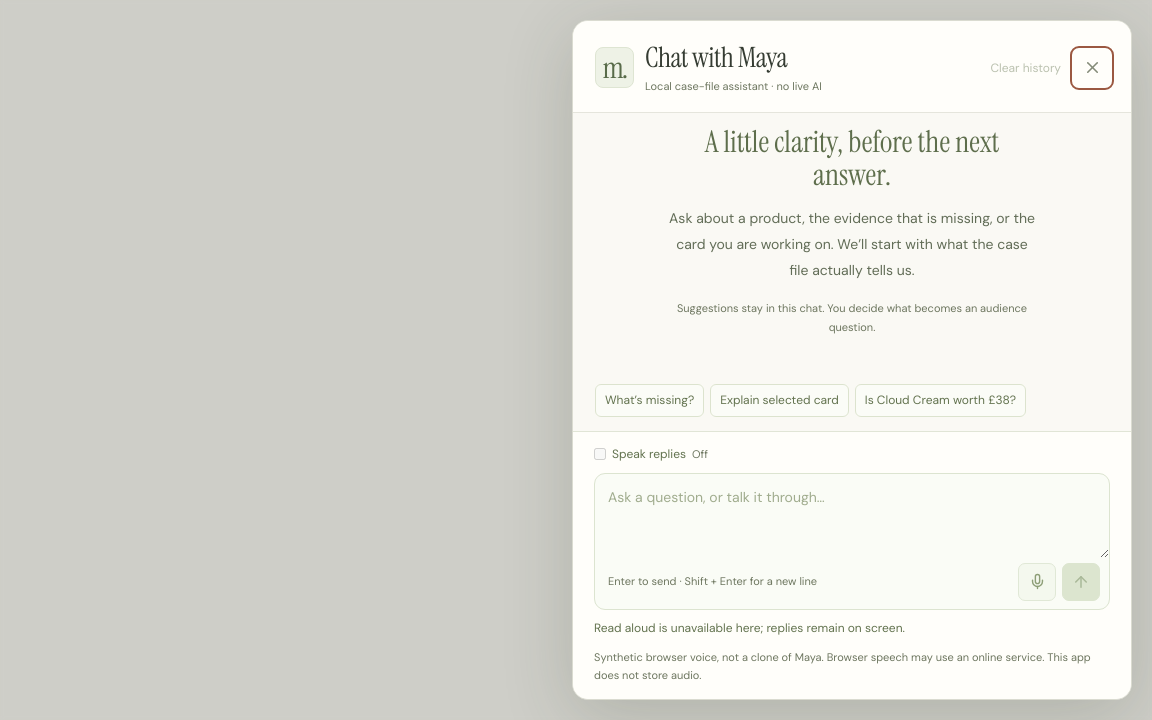
Test: chat input lifecycle with simulated browser events › recovers interim words if manual stop never completes and rejects a late final
(page scrolled)
Click the button named "Start dictation": (1037,582) [1018, 562, 1056, 600]
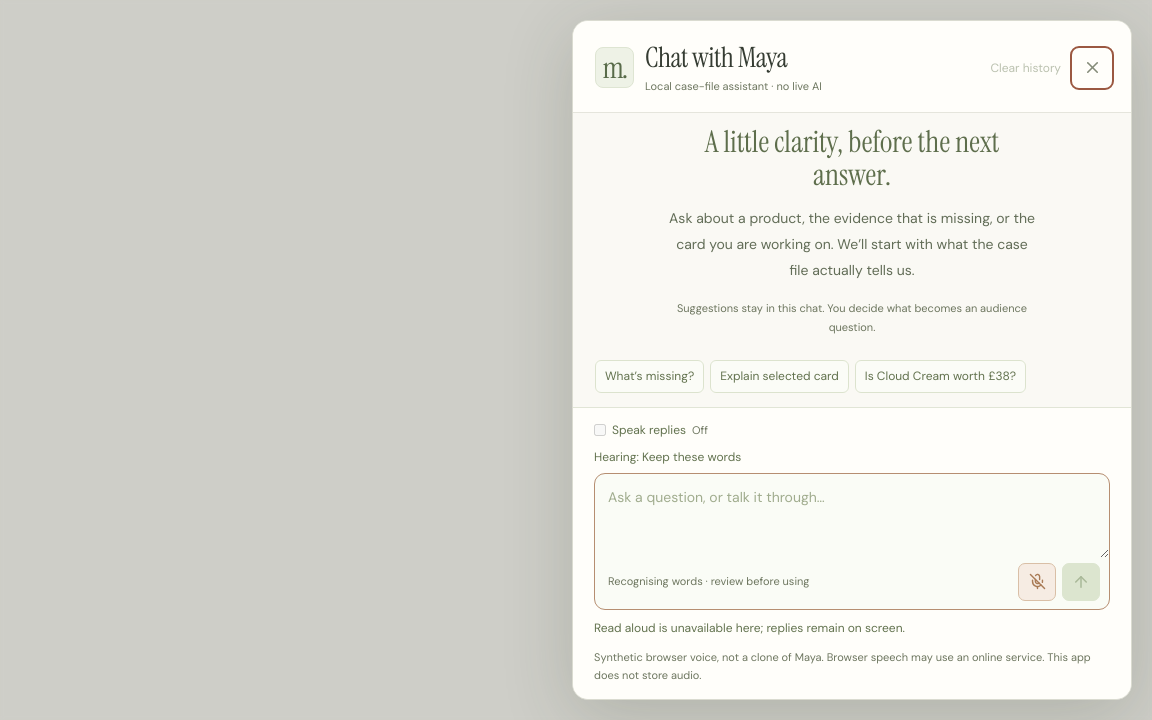
Click the button named "Stop dictation": (1037,582) [1018, 562, 1056, 600]
Wait 3000 ms
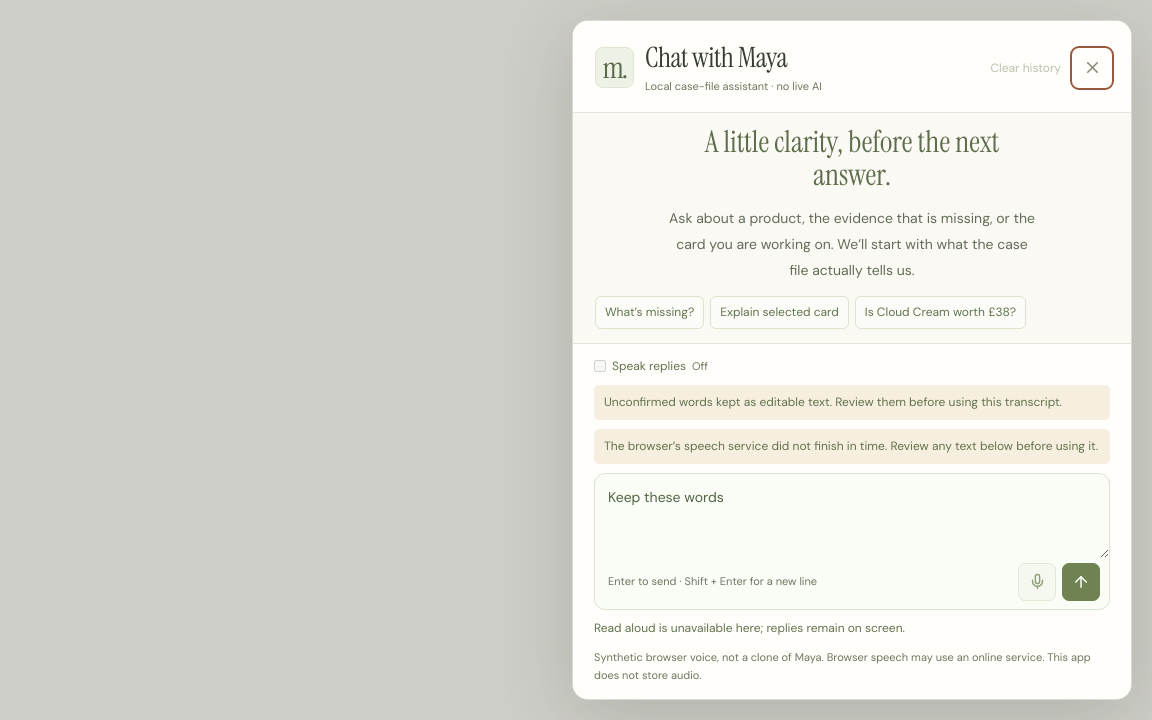
Result: the text "Unconfirmed words kept as editable text. Review them before using this transcript." is shown at [604, 394, 1062, 410]
Result: the text "did not finish in time" is shown at [604, 438, 1098, 454]
Result: the text box holds "Keep these words" at [595, 474, 1109, 558]
